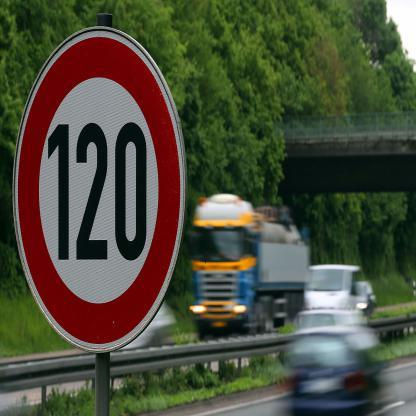Speed Limit 120: (17, 33, 182, 352)
